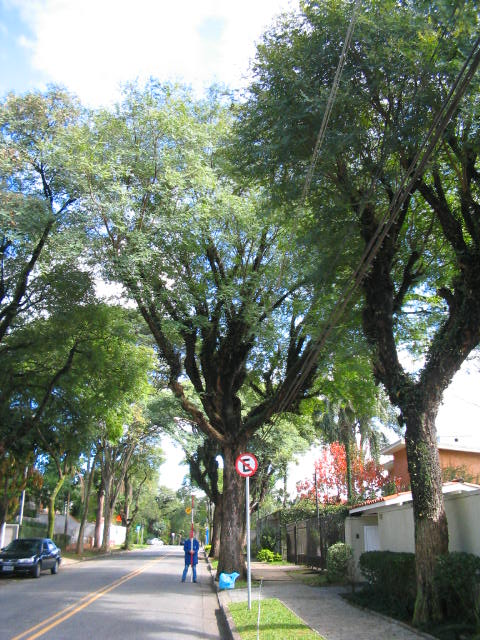crown: (61, 88, 361, 373)
stem: (212, 435, 260, 580)
stick: (184, 494, 201, 583)
tree: (58, 83, 366, 580)
